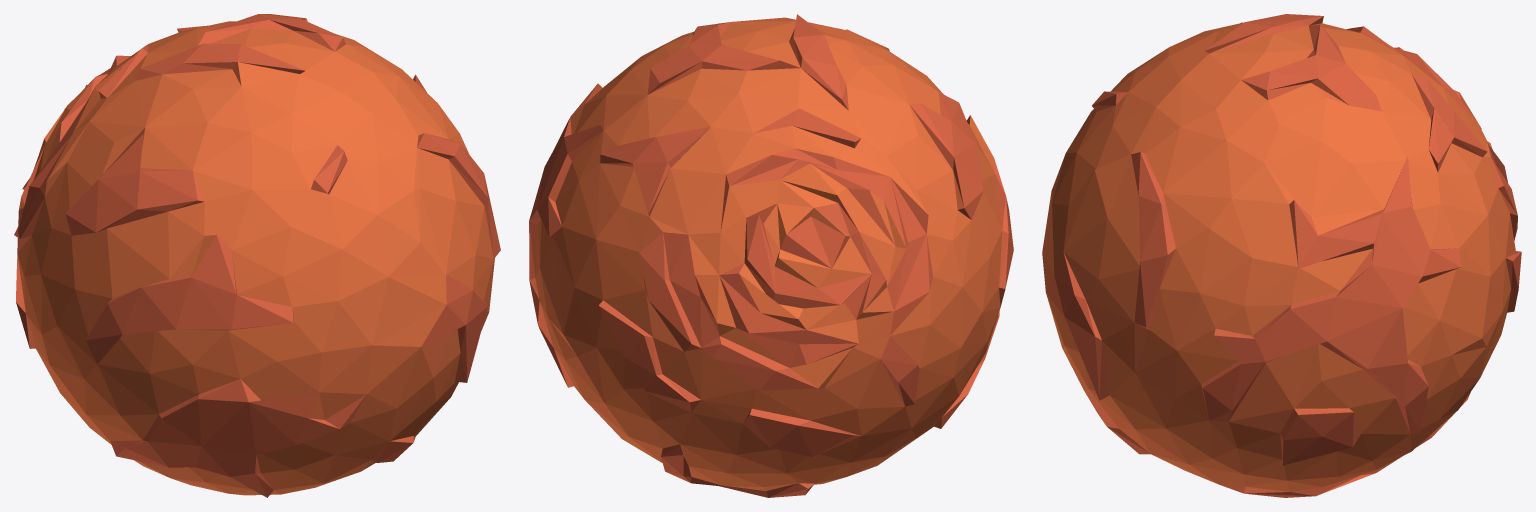
The model's file is Mars.fbx.
3 views of the same model, side by side, from view 1: azimuth 30°, elevation 25°; view 2: azimuth 150°, elevation 25°; view 3: azimuth 270°, elevation 25° (orthographic).
Parts seen in each view (by area): view 1: Mars; view 2: Mars; view 3: Mars.
Boxes of the visible parts, x1,y1,x2,y2 form: Mars: [14, 14, 500, 497]; Mars: [529, 14, 1013, 497]; Mars: [1042, 14, 1521, 497].
Bounding box in the file's own units: 35.13 × 35.42 × 35.18.
Materials: 1 (1 with a texture image).
